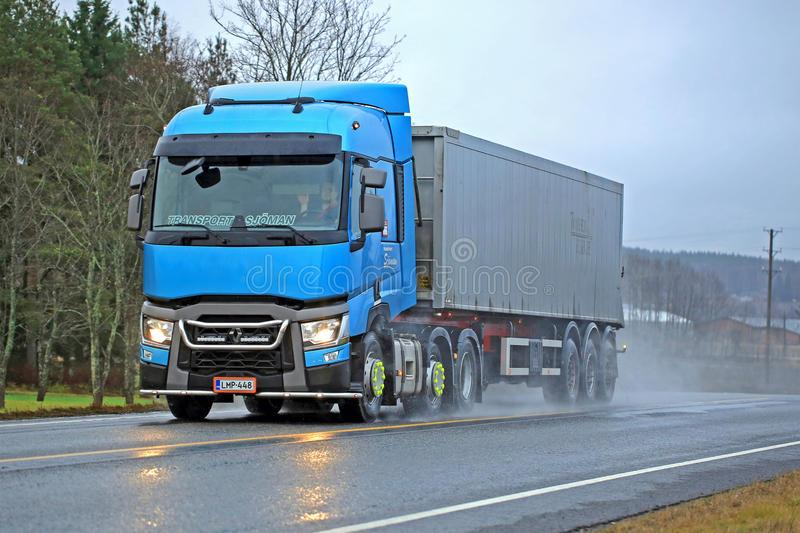truck: (129, 67, 633, 434)
